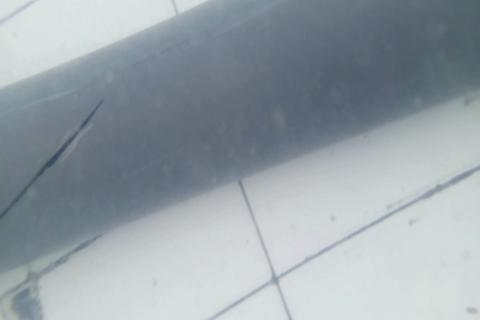keretakan: (1, 98, 105, 218)
